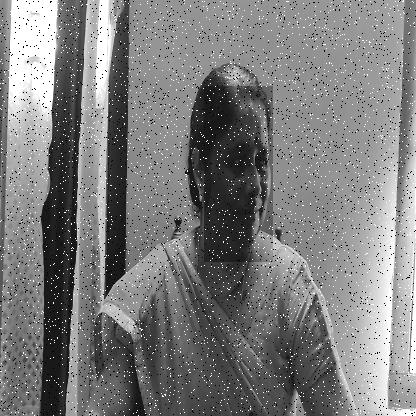Distracted: (204, 86, 273, 262)
